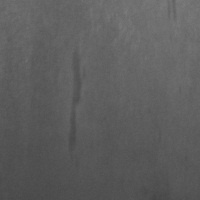inclusion: (63, 45, 89, 162), (161, 1, 182, 26)
